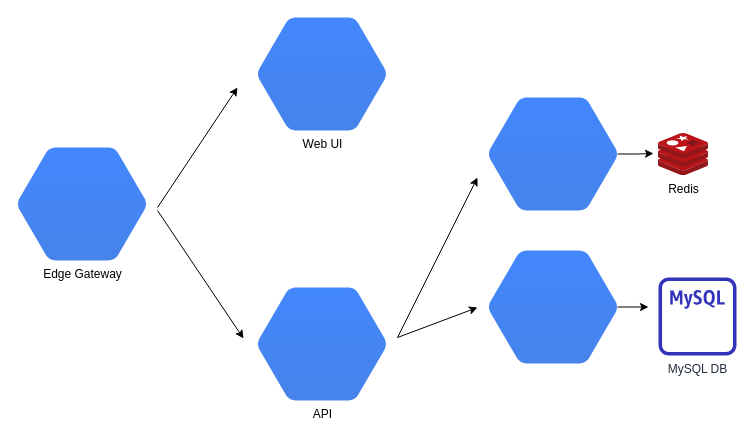
Image size: 753x438. Some labels were removed from this diagram. The shapes that lost their labels are listed below. From the top down, each one's centre as x and y in pixels, then its label:
At pixel 552 153: "Cache Service".
At pixel 552 306: "Backend Service".
